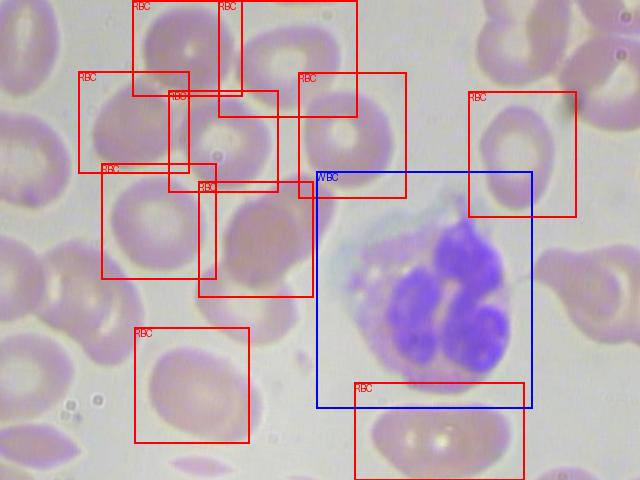RBC: (354, 382, 524, 480), (218, 0, 357, 117), (468, 91, 576, 217), (298, 72, 406, 198), (101, 163, 216, 279), (134, 327, 249, 443), (198, 181, 313, 297), (78, 71, 189, 173), (168, 90, 278, 192), (132, 0, 242, 96)
WBC: (316, 171, 532, 408)
